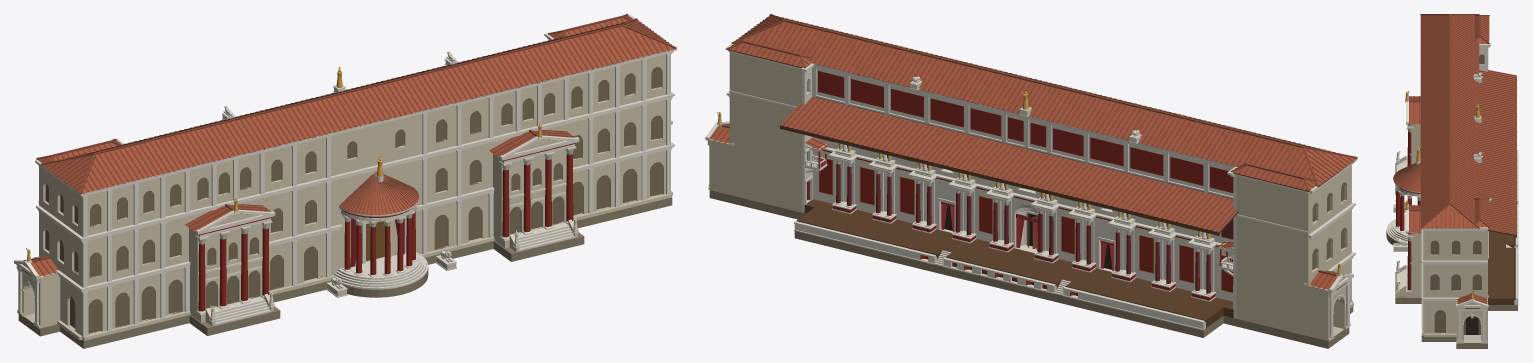
File: rome_theatre_scaena.glb
The picture shows the model from 3 angles, left to right: view 1: azimuth 30°, elevation 25°; view 2: azimuth 150°, elevation 25°; view 3: azimuth 270°, elevation 25°; orthographic projection. The views are drawn at different scales.
Visible parts, largest first — view 1: rome_theatre_scaena; view 2: rome_theatre_scaena; view 3: rome_theatre_scaena.
Boxes of the visible parts, left/top/right/bottom form: rome_theatre_scaena: left=14, top=14, right=676, bottom=348; rome_theatre_scaena: left=705, top=14, right=1357, bottom=348; rome_theatre_scaena: left=1386, top=14, right=1518, bottom=348.
Size of the model in its own units: 126 by 34.05 by 30.75.
